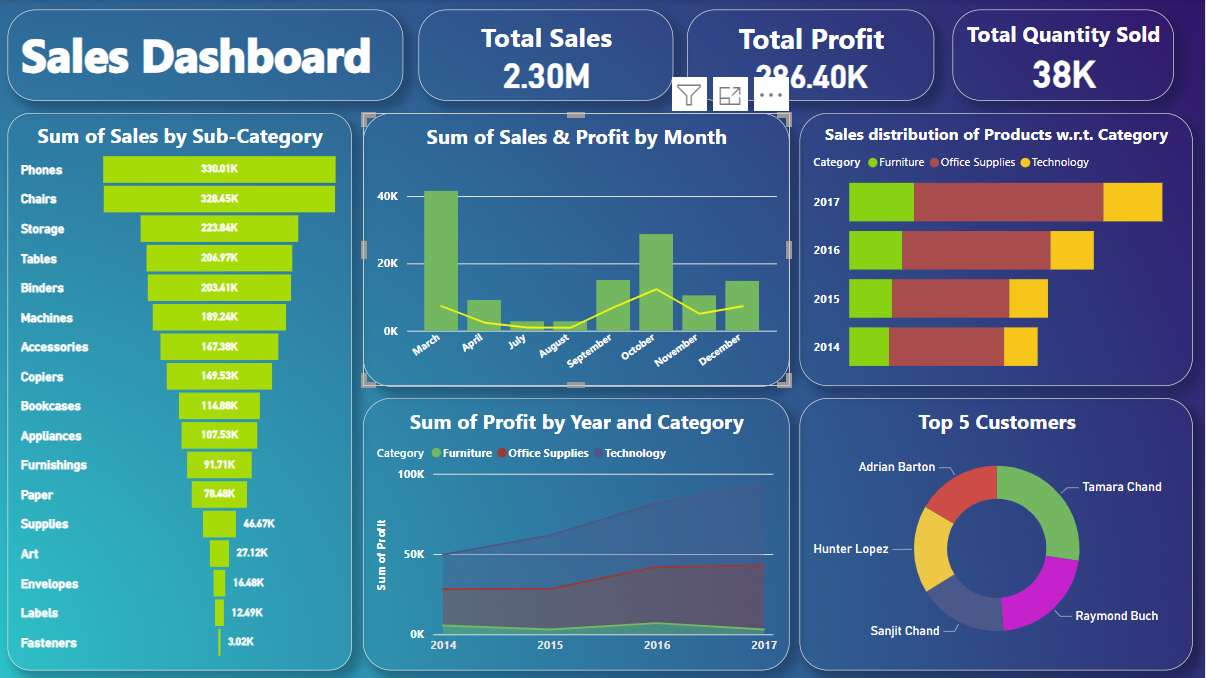

The dashboard page shown, as its layout file describes it:
{"tool":"powerbi","page":{"name":"Page 1","canvas":[1280,720],"ordinal":0},"visuals":[{"type":"funnel","fields":{"Y":["Sum(salesdata.Sales)"],"Category":["salesdata.Sub-Category"]},"box":[11.8,120,364.7,590.6],"z":0},{"type":"stackedAreaChart","fields":{"Category":["salesdata.Order Date.Variation.Date Hierarchy.Year"],"Y":["Sum(salesdata.Profit)"],"Series":["salesdata.Category"]},"box":[388.1,422,451.7,289],"z":1000},{"type":"lineClusteredColumnComboChart","title":"Sum of Sales & Profit by Month","fields":{"Category":["salesdata.Order Date.Variation.Date Hierarchy.Month"],"Y":["Sum(salesdata.Sales)"],"Y2":["Sum(salesdata.Profit)"]},"box":[388.3,120,451.7,290],"z":2000},{"type":"barChart","title":"Sales distribution of Products w.r.t. Category","fields":{"Category":["salesdata.Order Date.Variation.Date Hierarchy.Year"],"Y":["CountNonNull(salesdata.Customer Name)"],"Series":["salesdata.Category"]},"box":[850.3,120.8,416.4,289.3],"z":3000},{"type":"donutChart","title":"Top 5 Customers ","fields":{"Category":["salesdata.Customer Name"],"Y":["Sum(salesdata.Profit)"]},"box":[850,422,416.9,289],"z":4000},{"type":"textbox","box":[11.1,11.1,419.6,97],"z":5000},{"type":"card","title":"Total Sales","fields":{"Values":["Sum(salesdata.Sales)"]},"box":[446.7,11.1,270,96.7],"z":6000},{"type":"card","title":"Total Profit","fields":{"Values":["Sum(salesdata.Profit)"]},"box":[731.1,11.1,262.2,96.7],"z":7000},{"type":"card","title":"Total Quantity Sold","fields":{"Values":["Sum(salesdata.Quantity)"]},"box":[1012.2,11.1,234.4,96.7],"z":8000}]}

Visuals, with their boxes in screenshot pixels (x1, y1, x2, y2), scaled from the page's 1280x720 canvas onto the 1206x678 screenshot:
funnel - Sum(salesdata.Sales) x salesdata.Sub-Category: crop(11, 113, 355, 669)
stackedAreaChart - salesdata.Order Date.Variation.Date Hierarchy.Year x Sum(salesdata.Profit): crop(366, 397, 791, 670)
"Sum of Sales & Profit by Month" lineClusteredColumnComboChart: crop(366, 113, 791, 386)
"Sales distribution of Products w.r.t. Category" barChart: crop(801, 114, 1193, 386)
"Top 5 Customers " donutChart: crop(801, 397, 1194, 670)
textbox: crop(10, 10, 406, 102)
"Total Sales" card: crop(421, 10, 675, 102)
"Total Profit" card: crop(689, 10, 936, 102)
"Total Quantity Sold" card: crop(954, 10, 1175, 102)
